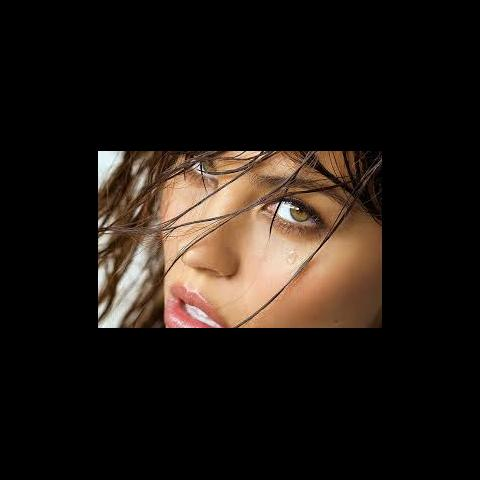opened: (184, 156, 338, 246)
